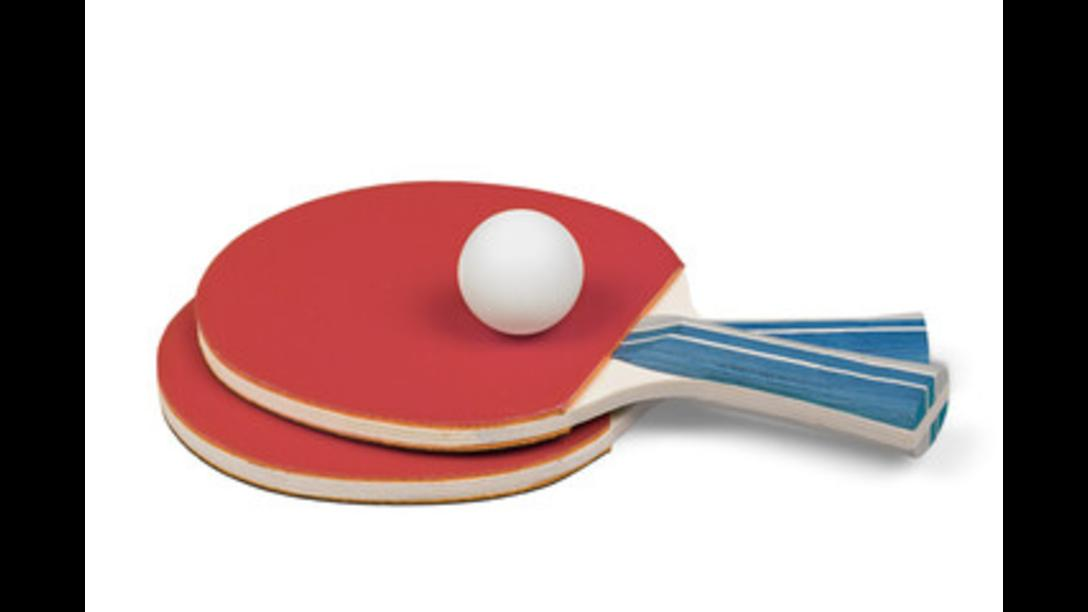Table-Tennis-Ball: (460, 208, 582, 334)
